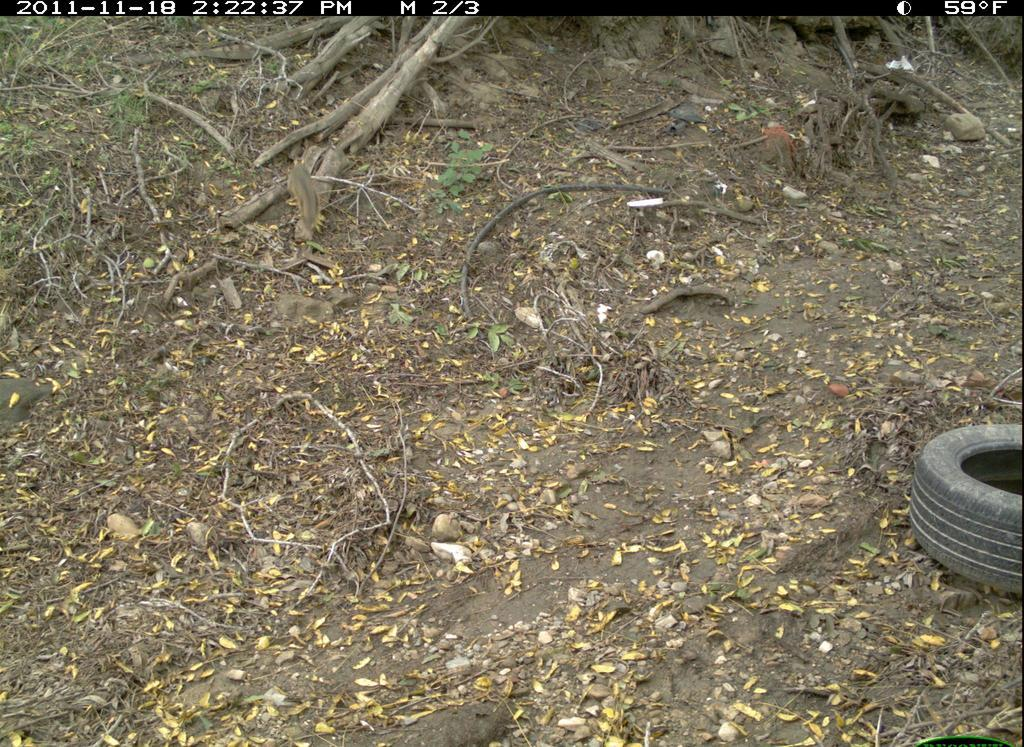squirrel: (280, 153, 335, 245)
